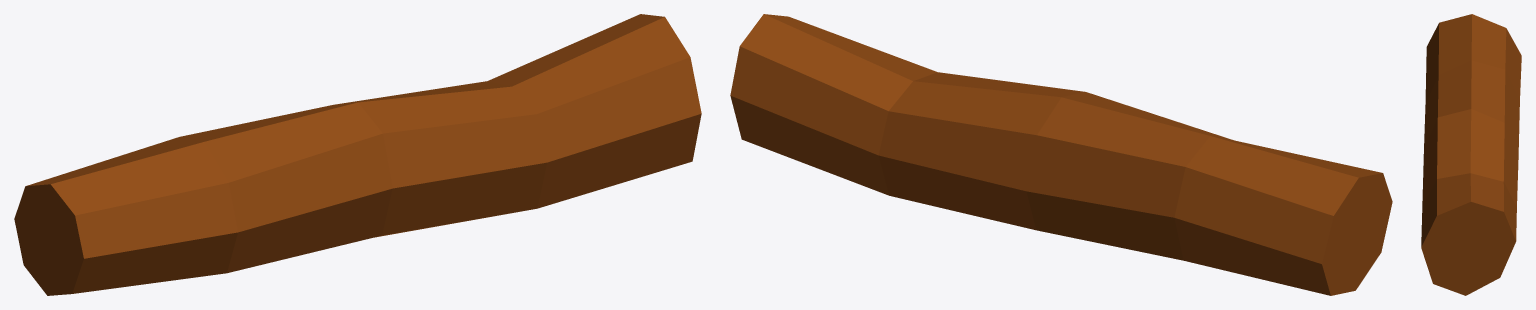
File: Log.fbx
3 views of the same model, side by side, from view 1: azimuth 30°, elevation 25°; view 2: azimuth 150°, elevation 25°; view 3: azimuth 270°, elevation 25° (orthographic). The views are drawn at different scales.
Visible parts, largest first — view 1: log02; view 2: log02; view 3: log02.
Part boxes in pixels (x1,y1,x2,y2): log02: (14,14,701,295); log02: (730,14,1392,295); log02: (1421,14,1521,295).
Size of the model in its own units: 301 by 70.13 by 63.78.
